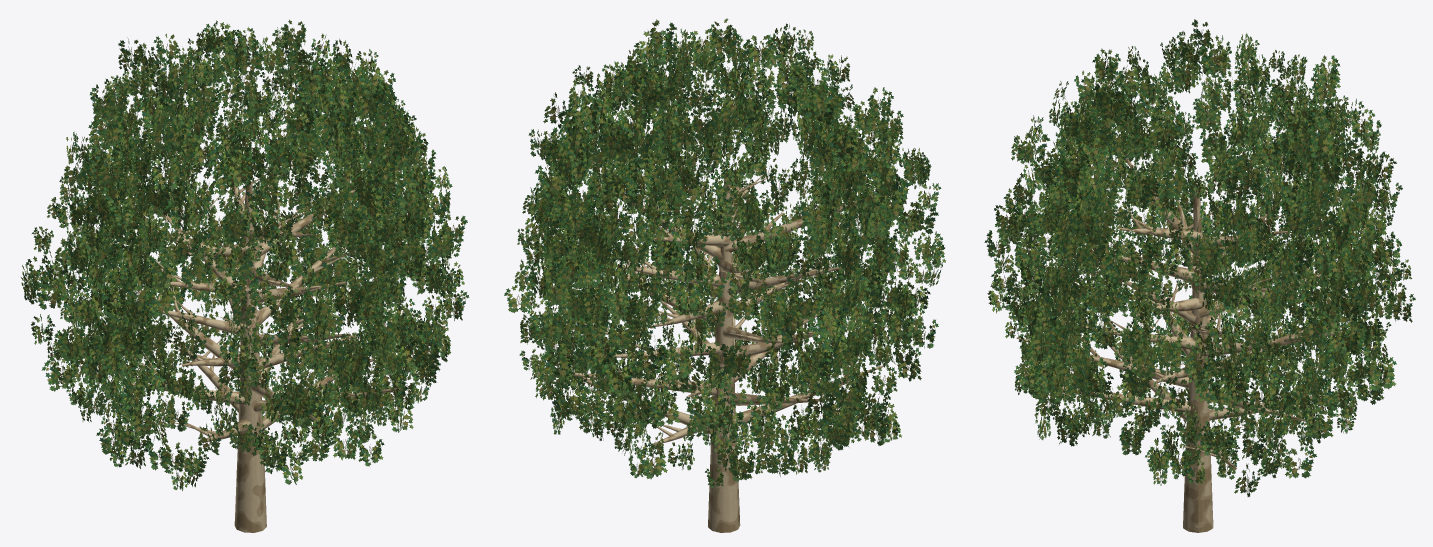
3 views of the same model, side by side, from view 1: azimuth 30°, elevation 25°; view 2: azimuth 150°, elevation 25°; view 3: azimuth 270°, elevation 25° (orthographic). The views are drawn at different scales.
Visible parts, largest first — view 1: VIS_Plane_LeafCards, VIS_Plane_Bark; view 2: VIS_Plane_LeafCards, VIS_Plane_Bark; view 3: VIS_Plane_LeafCards, VIS_Plane_Bark.
Boxes of the visible parts, <box> form: VIS_Plane_LeafCards: <box>21,19,469,490</box>; VIS_Plane_Bark: <box>129,174,406,532</box>; VIS_Plane_LeafCards: <box>504,18,945,488</box>; VIS_Plane_Bark: <box>545,175,883,532</box>; VIS_Plane_LeafCards: <box>984,19,1415,496</box>; VIS_Plane_Bark: <box>1016,147,1356,532</box>.
Size of the model in its own units: 15.03 by 17.39 by 15.08.
2 materials, 2 textured.
